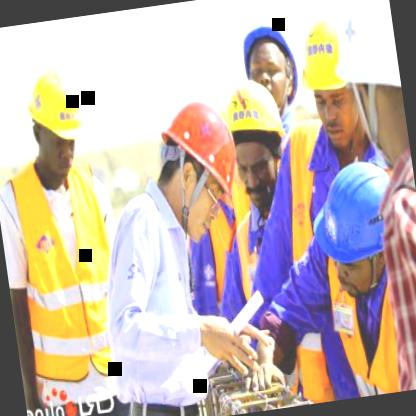helmet: (150, 84, 245, 231), (304, 152, 400, 294), (334, 0, 410, 162), (202, 73, 288, 212), (16, 49, 100, 190), (292, 3, 370, 152), (232, 21, 300, 108)
